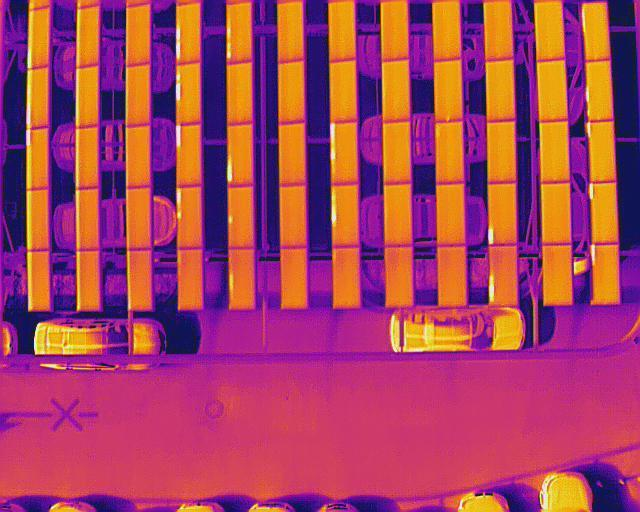Cell: (228, 186, 253, 249)
No-Anomaly: (534, 0, 564, 62), (539, 121, 569, 183), (542, 245, 572, 306), (537, 61, 567, 122), (542, 182, 571, 245), (437, 247, 466, 309), (485, 60, 514, 122), (484, 0, 513, 60), (384, 246, 412, 308), (279, 248, 307, 310), (383, 184, 411, 246), (432, 0, 460, 61), (380, 0, 408, 61), (434, 61, 462, 122), (487, 122, 515, 183), (332, 247, 359, 310), (329, 60, 356, 123), (383, 121, 410, 184), (436, 184, 463, 247), (328, 0, 355, 62), (436, 122, 463, 184), (279, 186, 306, 248), (381, 60, 408, 121), (278, 0, 304, 62), (278, 62, 304, 124), (279, 124, 305, 185), (226, 62, 251, 125), (178, 249, 203, 311), (75, 4, 99, 68), (76, 250, 101, 311), (126, 3, 150, 66), (126, 64, 150, 127), (126, 124, 149, 189), (76, 189, 100, 251), (25, 190, 49, 252), (127, 249, 151, 311), (75, 66, 98, 128), (75, 127, 98, 189), (126, 187, 149, 249), (27, 252, 50, 312)
Unclassified: (586, 121, 616, 182), (487, 183, 516, 245), (589, 181, 617, 244), (591, 244, 619, 306), (488, 245, 516, 307), (582, 0, 610, 61), (330, 122, 357, 185), (585, 60, 612, 122), (225, 125, 252, 187), (331, 185, 358, 247), (228, 249, 255, 310), (176, 188, 203, 249), (175, 2, 201, 65), (175, 62, 201, 125), (175, 126, 201, 188), (225, 1, 250, 65), (25, 67, 50, 131), (27, 5, 50, 70), (25, 129, 48, 191)
